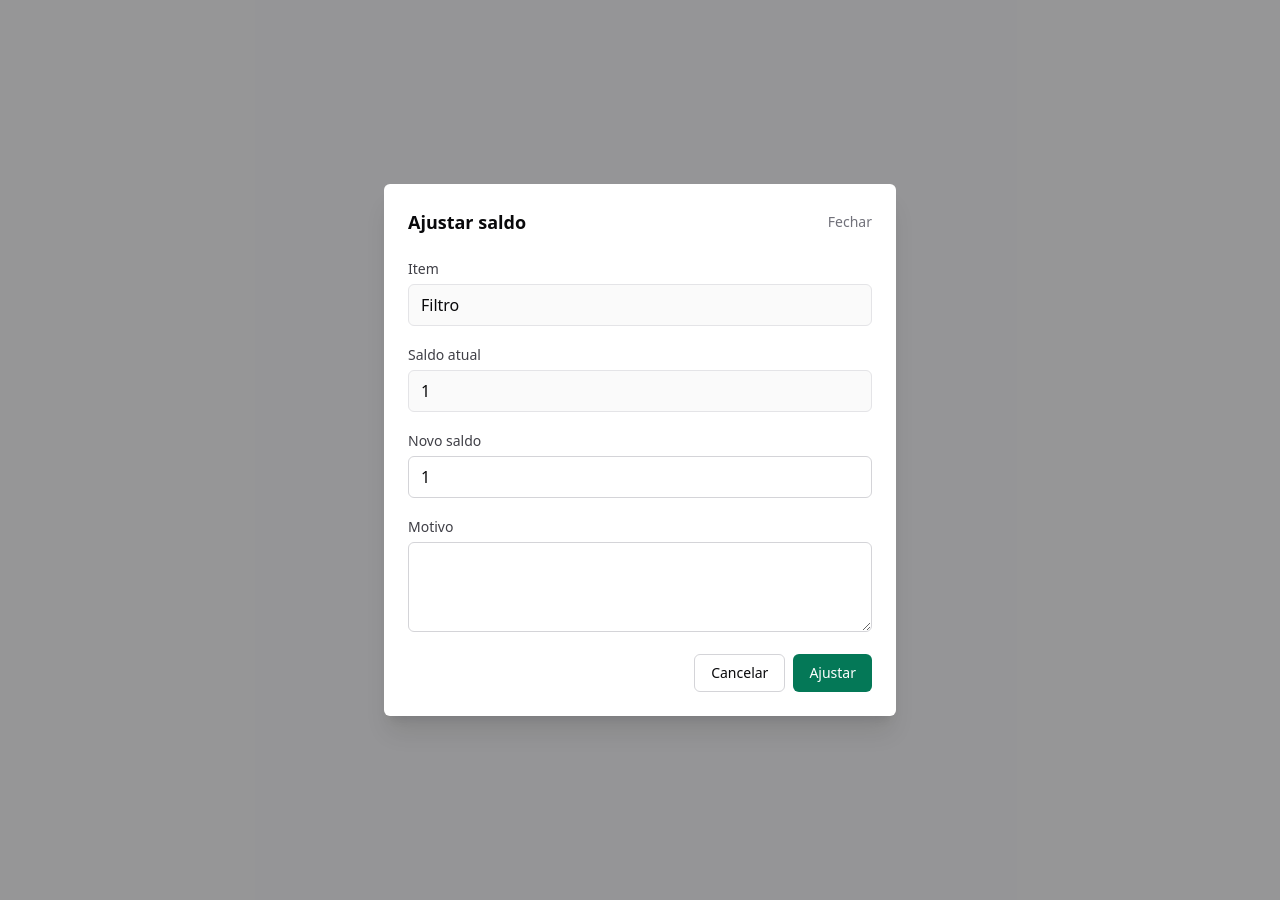
Test: RegistrarAjusteModal › valida motivo obrigatorio
This screenshot has width=1280, height=900.
Click the button "Ajustar" at (833, 673), box [793,654,872,692]
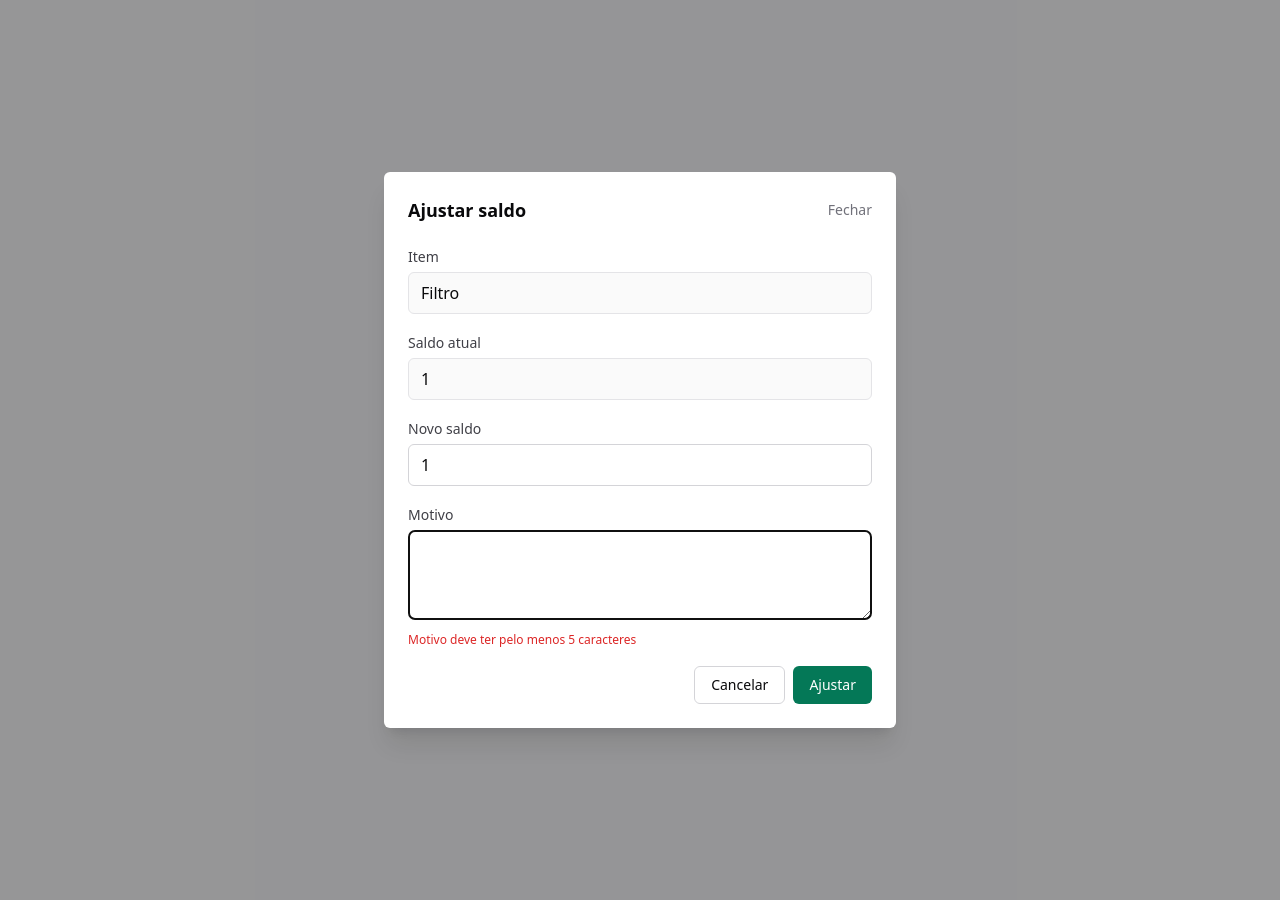
Expected: the text "Motivo deve ter pelo menos 5 caracteres" is shown, [408,631,636,648]
